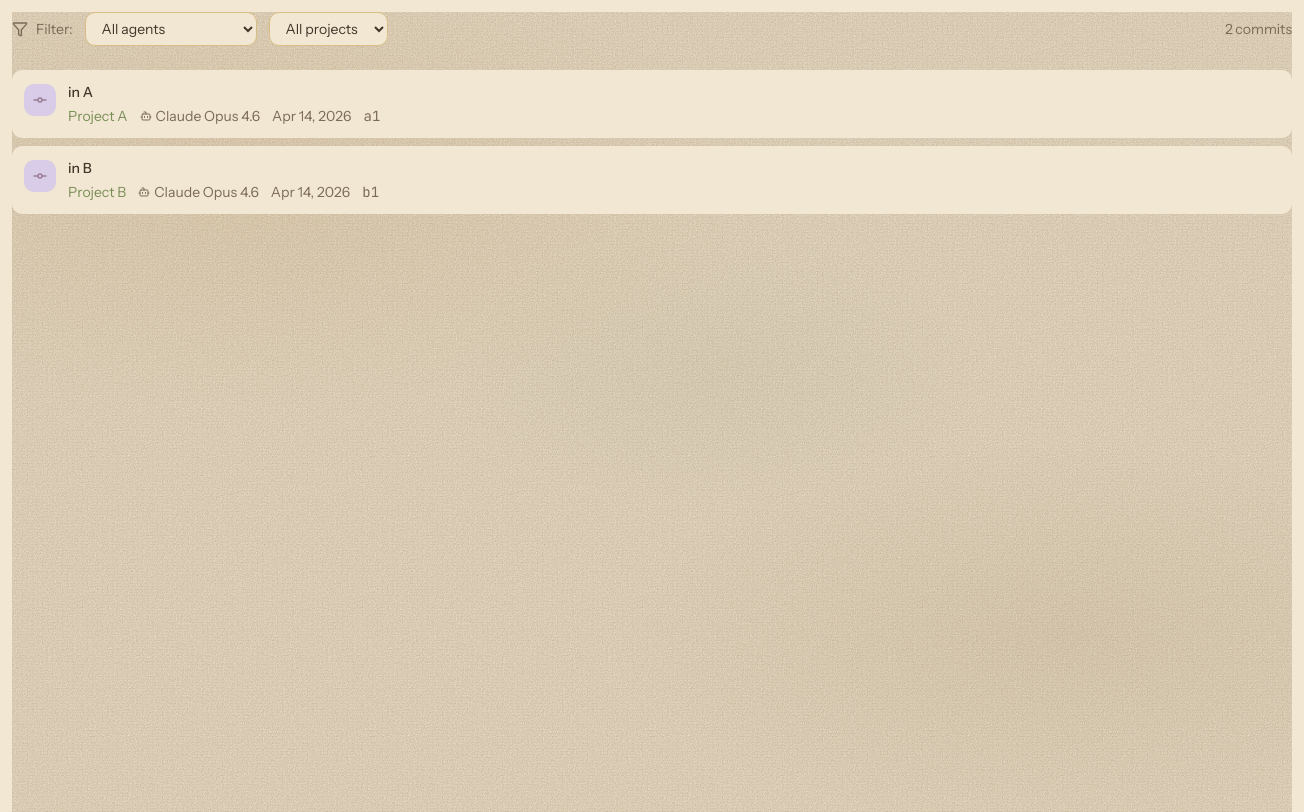
it: AgentActivityFeed › filters by project when selected
Step 1. Select "Project A" in the 2nd dropdown → (328, 29), box x1=269 y1=12 x2=388 y2=46
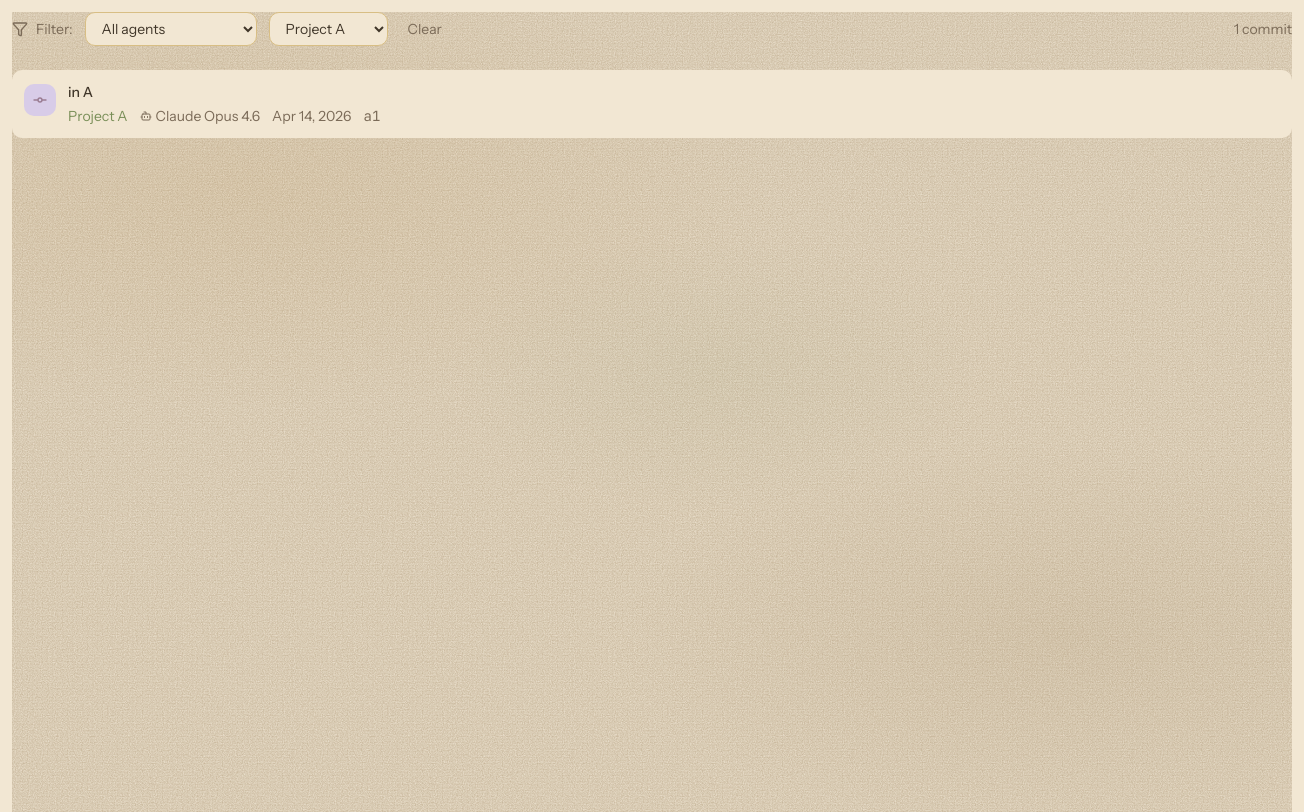
Check: the text "in A" is shown, box x1=68 y1=83 x2=93 y2=101
Check: the text "in B" is gone
